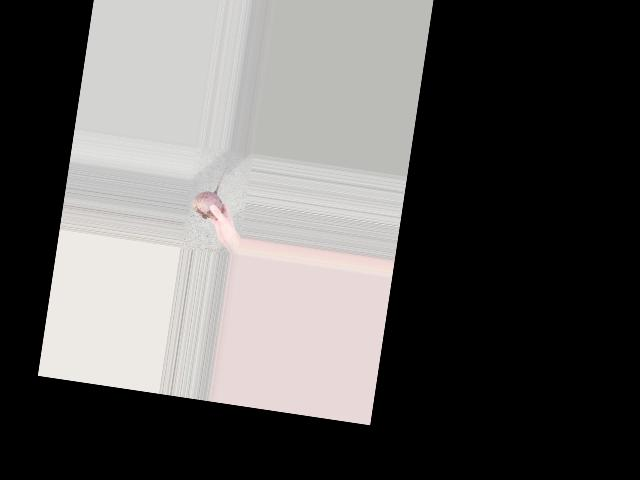beet: (190, 162, 228, 220)
